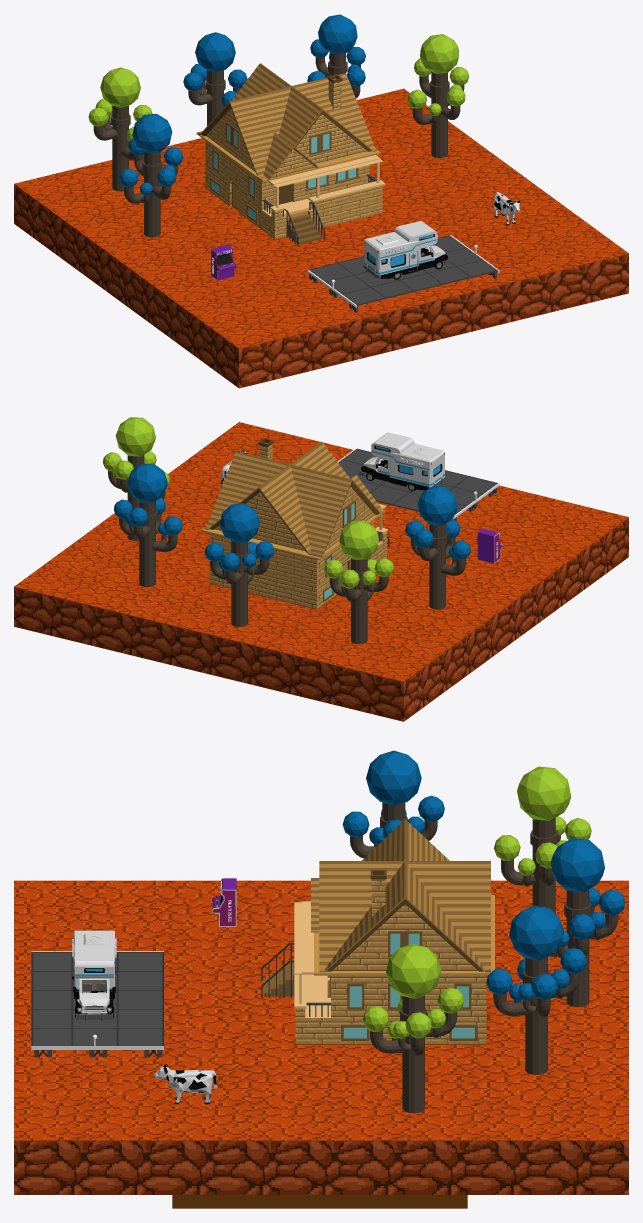
3 views of the same model, one above another, from view 1: azimuth 30°, elevation 25°; view 2: azimuth 150°, elevation 25°; view 3: azimuth 270°, elevation 25° (orthographic). The views are drawn at different scales.
Parts seen in each view (by area): view 1: Cube.001, Cube.508, VEHICLES_CAMPER, OBJRANDOM_ARCADE, ANIMAL_VACA; view 2: Cube.001, Cube.508, VEHICLES_CAMPER, OBJRANDOM_ARCADE; view 3: Cube.001, Cube.508, UNDERGROUND_ART_PIECE_VAN_GOGH, VEHICLES_CAMPER, ANIMAL_VACA, OBJRANDOM_ARCADE.
Part boxes in pixels (x1,y1,x2,y2): Cube.001: (14,14,628,388); Cube.508: (196,63,385,245); VEHICLES_CAMPER: (363,221,449,279); OBJRANDOM_ARCADE: (211,244,236,280); ANIMAL_VACA: (493,192,520,225); Cube.001: (14,417,628,721); Cube.508: (201,438,389,609); VEHICLES_CAMPER: (359,432,445,491); OBJRANDOM_ARCADE: (477,528,502,563); Cube.001: (14,750,628,1194); Cube.508: (261,820,494,1044); UNDERGROUND_ART_PIECE_VAN_GOGH: (172,1195,467,1208); VEHICLES_CAMPER: (72,930,116,1020); ANIMAL_VACA: (154,1064,217,1104); OBJRANDOM_ARCADE: (212,878,236,926).
Size of the model in its own units: 4000 by 1789 by 4000.
39 materials, 6 textured.
